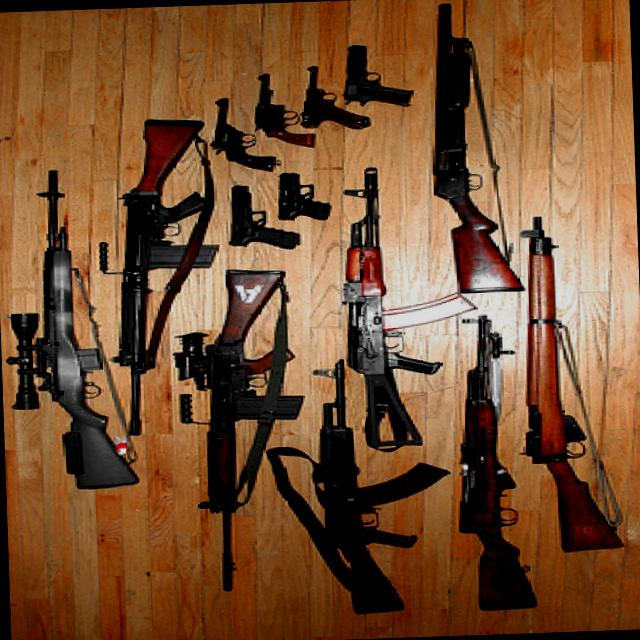handgun: (203, 95, 275, 174), (224, 181, 300, 252), (249, 69, 312, 151), (338, 42, 406, 112), (294, 72, 367, 134), (272, 168, 328, 222)
